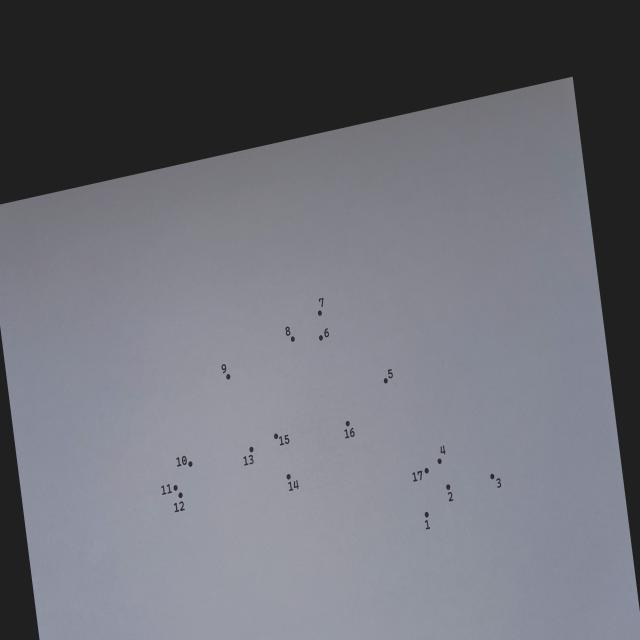Dot: (173, 484, 178, 491), (249, 446, 254, 453), (188, 461, 193, 467), (178, 492, 183, 498), (383, 378, 388, 384), (446, 484, 451, 490), (287, 473, 291, 480), (425, 511, 429, 518), (226, 374, 231, 379), (345, 421, 350, 426), (424, 468, 429, 473), (318, 310, 322, 316), (319, 335, 323, 341), (291, 336, 295, 342), (274, 433, 278, 439), (438, 458, 442, 464), (490, 474, 494, 479)
DotNumber: (173, 492, 186, 513), (286, 474, 300, 492), (274, 432, 290, 447), (412, 468, 429, 482), (242, 447, 254, 466), (176, 455, 193, 468), (344, 420, 355, 439), (161, 484, 178, 496), (437, 444, 447, 464), (490, 473, 502, 488), (285, 326, 295, 343), (221, 364, 231, 380), (384, 368, 394, 384), (446, 484, 454, 502), (424, 511, 431, 530), (319, 328, 329, 341), (317, 298, 323, 316)
Number: (278, 434, 290, 446), (176, 456, 188, 467), (173, 501, 185, 512), (243, 454, 254, 466), (161, 484, 172, 495), (288, 480, 299, 491), (412, 470, 422, 482), (344, 428, 355, 438), (447, 491, 454, 502), (424, 519, 430, 530), (285, 326, 291, 336), (440, 445, 446, 455), (496, 478, 502, 488), (318, 298, 324, 307), (324, 328, 329, 338), (388, 368, 393, 378), (222, 364, 226, 374)
